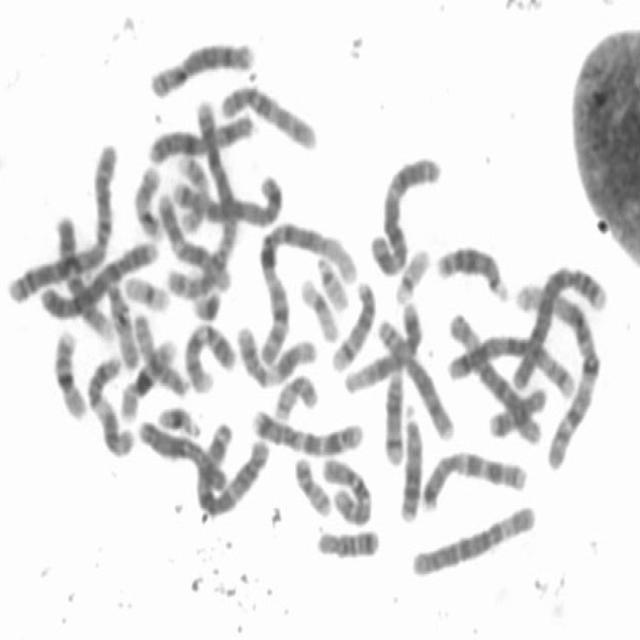A1: (511, 270, 606, 470), (253, 214, 358, 366)
A2: (1, 136, 120, 308), (162, 89, 248, 304)
A3: (367, 146, 444, 278), (192, 410, 271, 518)
B4: (506, 254, 610, 393), (36, 230, 160, 320)
B5: (442, 329, 577, 400), (173, 165, 285, 230)
C10: (216, 76, 320, 152), (317, 451, 374, 528)
C11: (230, 316, 318, 390), (83, 347, 136, 458)
C12: (152, 184, 232, 291), (340, 296, 424, 396)
C6: (445, 306, 545, 446), (404, 497, 539, 581)
C7: (416, 442, 530, 512), (247, 400, 366, 458)
C8: (372, 310, 457, 442), (146, 33, 258, 100)
C9: (51, 205, 118, 342), (180, 316, 239, 394)
D13: (432, 236, 512, 304), (394, 399, 426, 524)
D14: (329, 274, 378, 372), (380, 352, 409, 464)
D15: (131, 307, 194, 399), (102, 274, 142, 372)
E16: (116, 332, 179, 424), (47, 323, 89, 420)
E17: (175, 148, 212, 235), (129, 159, 165, 241)
E18: (482, 378, 550, 440), (312, 522, 382, 561)
F19: (295, 270, 341, 343), (120, 267, 172, 314)
F20: (290, 449, 334, 518), (269, 366, 320, 422)
G21: (154, 398, 204, 439), (187, 286, 222, 322)
G22: (390, 240, 432, 304), (312, 251, 352, 313)
X: (133, 413, 230, 495), (144, 106, 256, 165)
